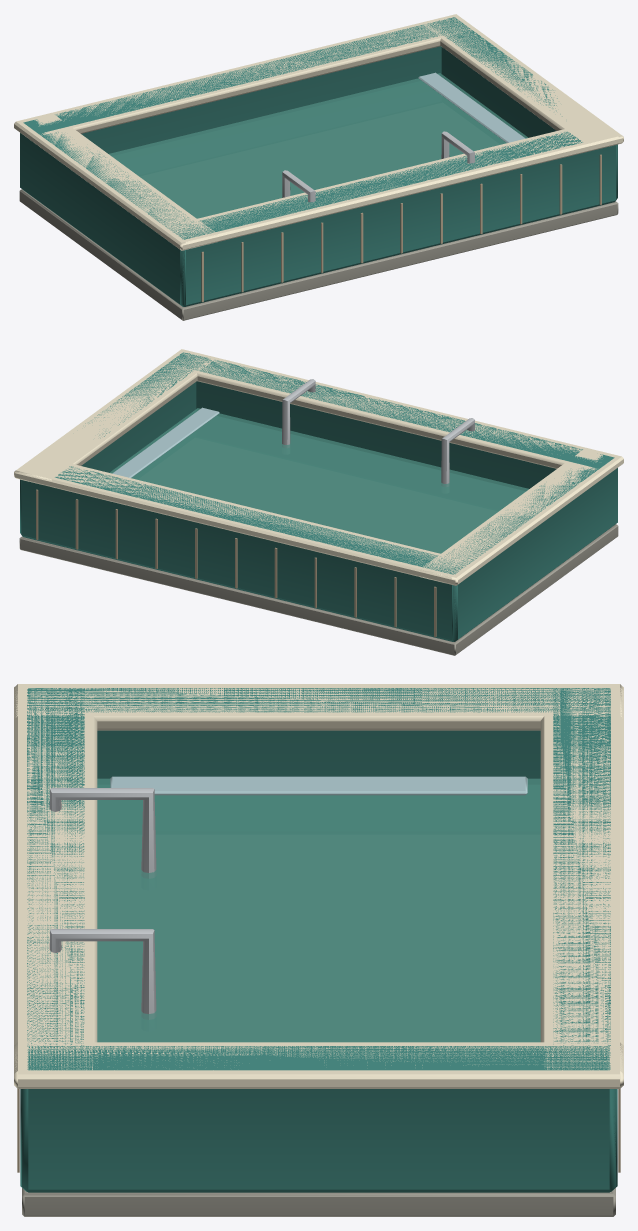
Rendered from pool_plunge.glb.
3 renders of one model, top to bottom at view 1: azimuth 30°, elevation 25°; view 2: azimuth 150°, elevation 25°; view 3: azimuth 270°, elevation 25°, orthographic. The views are drawn at different scales.
Visible parts, largest first — view 1: pool_plunge, water, frost; view 2: pool_plunge, water, frost; view 3: pool_plunge, water, frost.
Part boxes in pixels (x1=…): pool_plunge: x1=14, y1=14, x2=623, y2=320; water: x1=109, y1=73, x2=528, y2=218; frost: x1=418, y1=72, x2=525, y2=142; pool_plunge: x1=14, y1=349, x2=623, y2=655; water: x1=109, y1=408, x2=528, y2=553; frost: x1=112, y1=407, x2=219, y2=477; pool_plunge: x1=14, y1=684, x2=623, y2=1216; water: x1=97, y1=778, x2=540, y2=1042; frost: x1=110, y1=776, x2=527, y2=795.
Bounding box in the file's own units: 2.9 × 0.5677 × 1.9.
